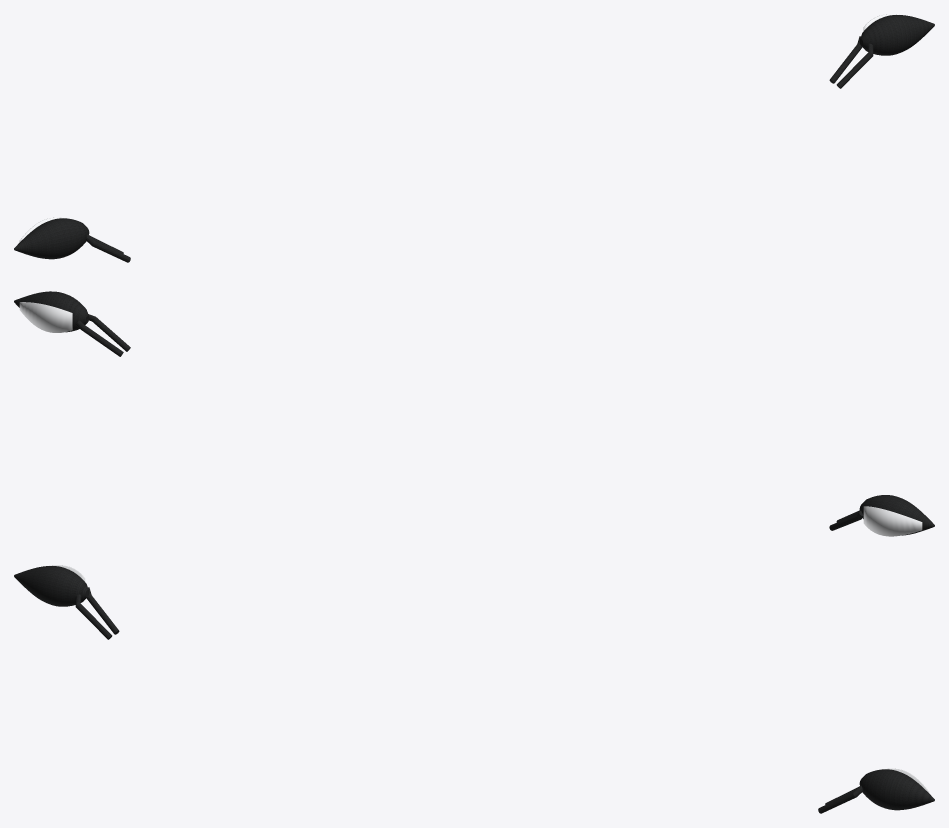
File: DT74_twin_stalk_mirrors.glb
3 views of the same model, one above another, from view 1: azimuth 30°, elevation 25°; view 2: azimuth 150°, elevation 25°; view 3: azimuth 330°, elevation 25° (orthographic).
Visible parts, largest first — view 1: MOD_NA_DT74_head_R, MOD_NA_DT74_head_L; view 2: MOD_NA_DT74_glass_R, MOD_NA_DT74_glass_L, MOD_NA_DT74_head_L, MOD_NA_DT74_head_R; view 3: MOD_NA_DT74_head_L, MOD_NA_DT74_head_R.
Boxes of the visible parts, x1=… form: MOD_NA_DT74_head_R: x1=14, y1=218, x2=89, y2=259; MOD_NA_DT74_head_L: x1=859, y1=15, x2=934, y2=55; MOD_NA_DT74_glass_R: x1=863, y1=506, x2=922, y2=536; MOD_NA_DT74_glass_L: x1=19, y1=302, x2=72, y2=332; MOD_NA_DT74_head_L: x1=14, y1=291, x2=89, y2=332; MOD_NA_DT74_head_R: x1=859, y1=495, x2=934, y2=535; MOD_NA_DT74_head_L: x1=859, y1=769, x2=934, y2=810; MOD_NA_DT74_head_R: x1=14, y1=566, x2=89, y2=606.
Size of the model in its own units: 1.89 by 0.0984 by 0.0722.
2 materials, 1 textured.
